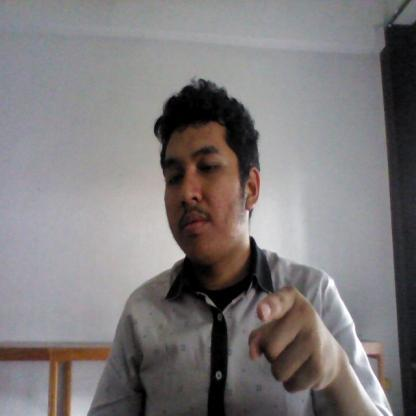Kamu: (238, 280, 358, 402)
